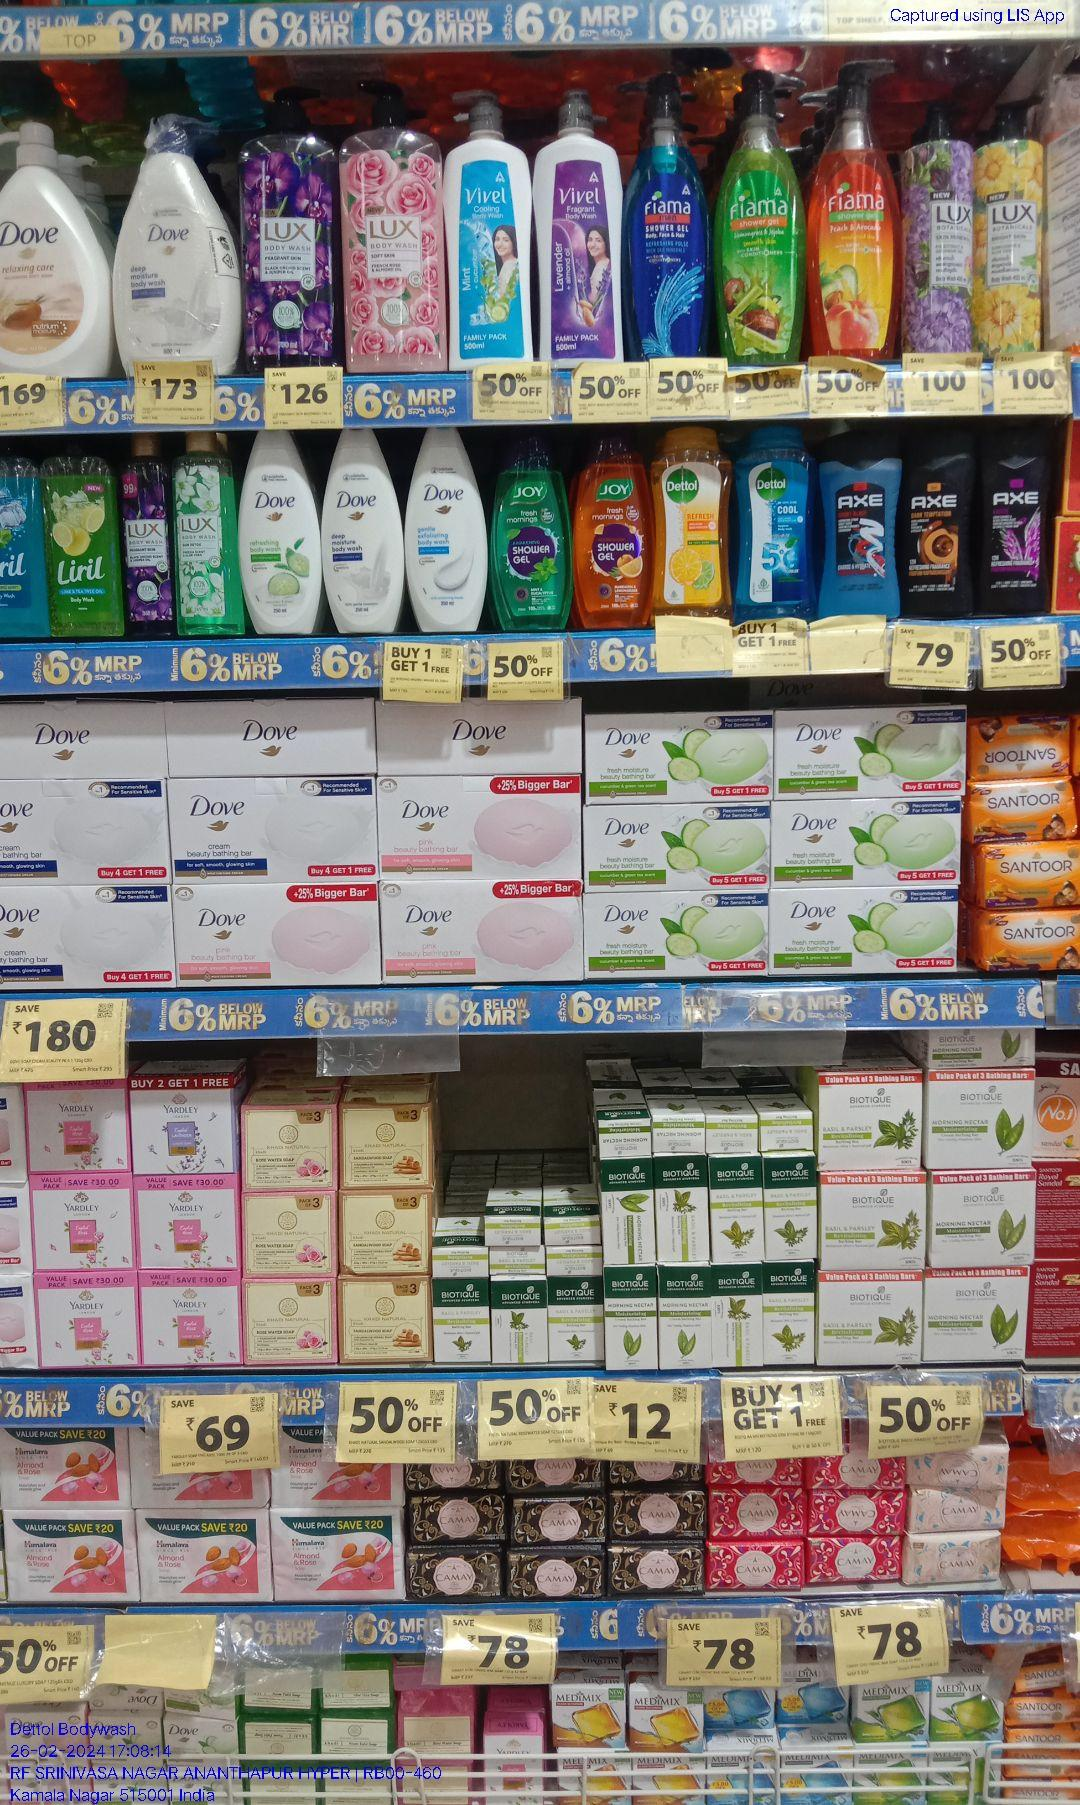Dettol_Bodywash_Cool: (737, 424, 818, 626)
Dettol_Bodywash_Refresh: (656, 427, 730, 621)
Dove_Deep_Moisture_Body_Wash_250ML: (324, 427, 400, 635)
Dove_Gentle_Exfoliating_Body_Wash_250ML: (413, 423, 486, 634)
Dove_Refreshing_Body_Wash_250ML: (240, 428, 320, 639)
Joy_Shower_Gel_Mandarin_and_Lemongrass_250ML: (579, 428, 652, 630)
Joy_Shower_Gel_Mint_and_Eucalyptus_250ML: (495, 433, 571, 636)
Lux_Black_Orchid_Scent_and_Juniper_Oil_Body_Wash_245ML: (125, 435, 177, 643)
Lux_Body_Wash_Skin_Detox_Freesia_Scent_and_Alove_Vera_245ML: (176, 433, 237, 635)
